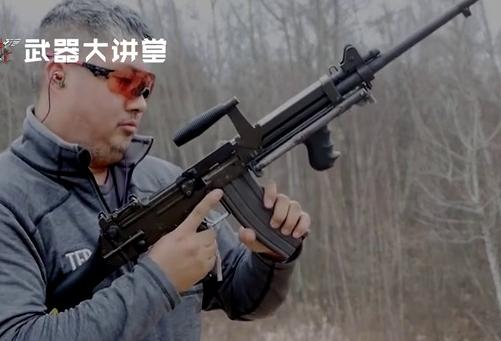gun: (1, 1, 501, 341)
